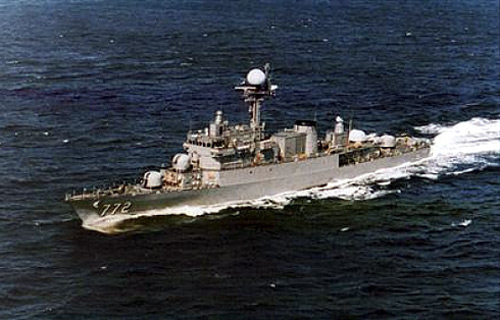warship: (61, 64, 435, 226)
